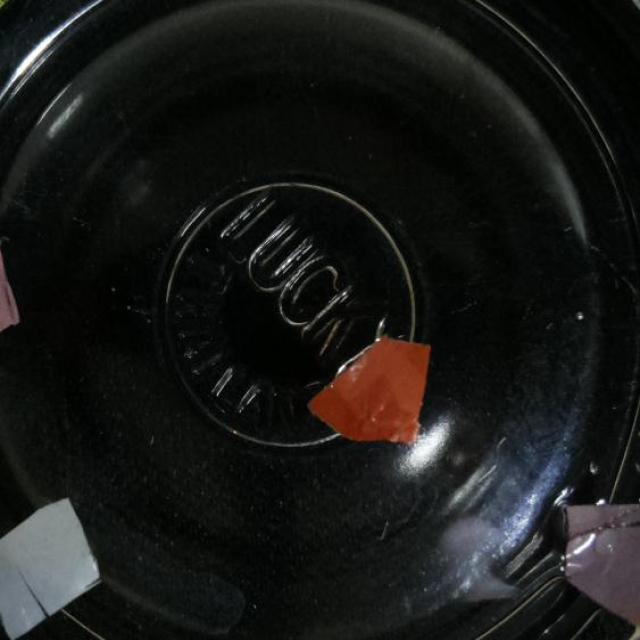fiber: (300, 334, 432, 453), (0, 498, 105, 639), (551, 474, 639, 636)
